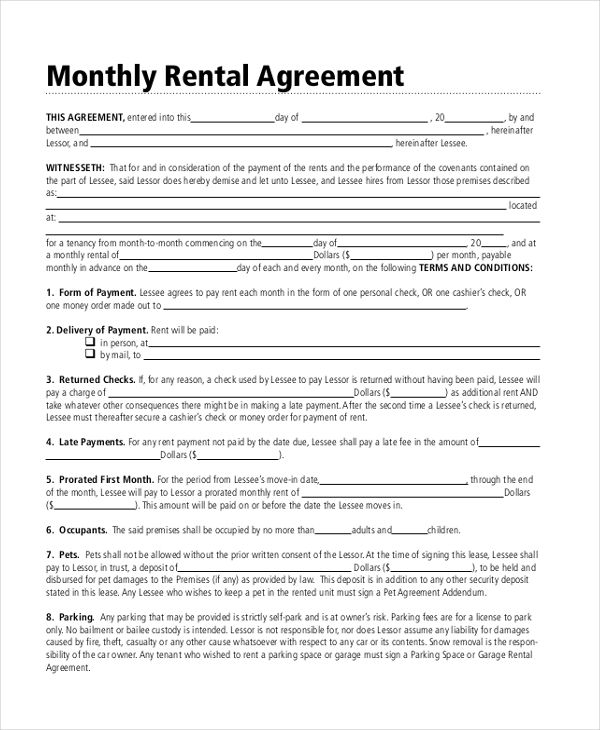checkbox: (85, 348, 96, 358), (85, 336, 95, 346)
textline: (58, 183, 541, 200), (43, 223, 526, 238), (58, 211, 541, 225), (148, 332, 542, 349), (44, 199, 509, 213), (77, 123, 485, 137), (143, 349, 545, 361), (165, 298, 468, 312), (91, 136, 392, 149), (107, 384, 354, 399), (119, 248, 313, 261), (301, 488, 502, 499), (177, 562, 352, 574), (300, 109, 429, 123), (320, 474, 465, 486), (338, 236, 467, 249), (44, 448, 159, 461), (190, 109, 274, 124), (388, 560, 472, 574), (148, 262, 238, 274), (350, 248, 430, 261), (199, 447, 276, 460), (55, 499, 134, 511), (445, 109, 503, 124), (481, 436, 542, 448), (259, 237, 313, 249), (390, 386, 444, 398), (480, 237, 509, 249), (317, 525, 350, 535), (393, 525, 428, 534)
